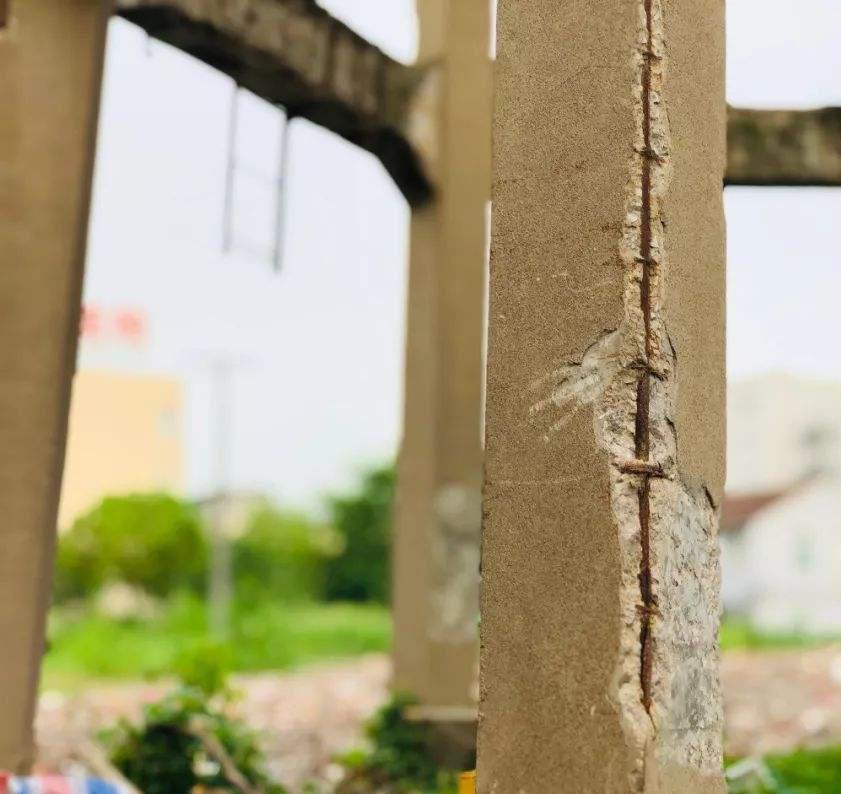Exposed reinforcement: (633, 1, 655, 718), (615, 461, 673, 482), (633, 355, 665, 385), (633, 146, 665, 165), (632, 601, 655, 620), (633, 254, 655, 268), (640, 49, 662, 62)
Spalling: (551, 1, 724, 777)
